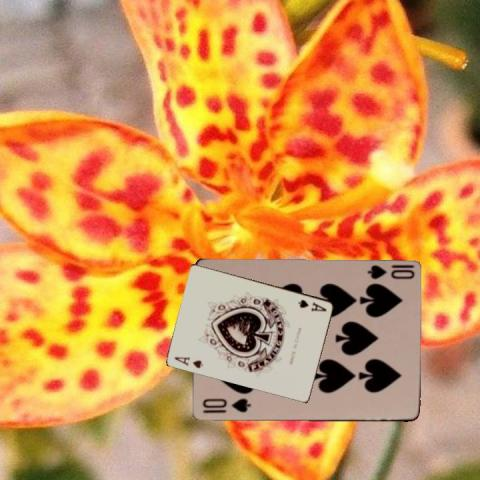10s: (200, 395, 252, 414), (364, 262, 415, 281)
As: (295, 296, 329, 313), (171, 354, 205, 370)
